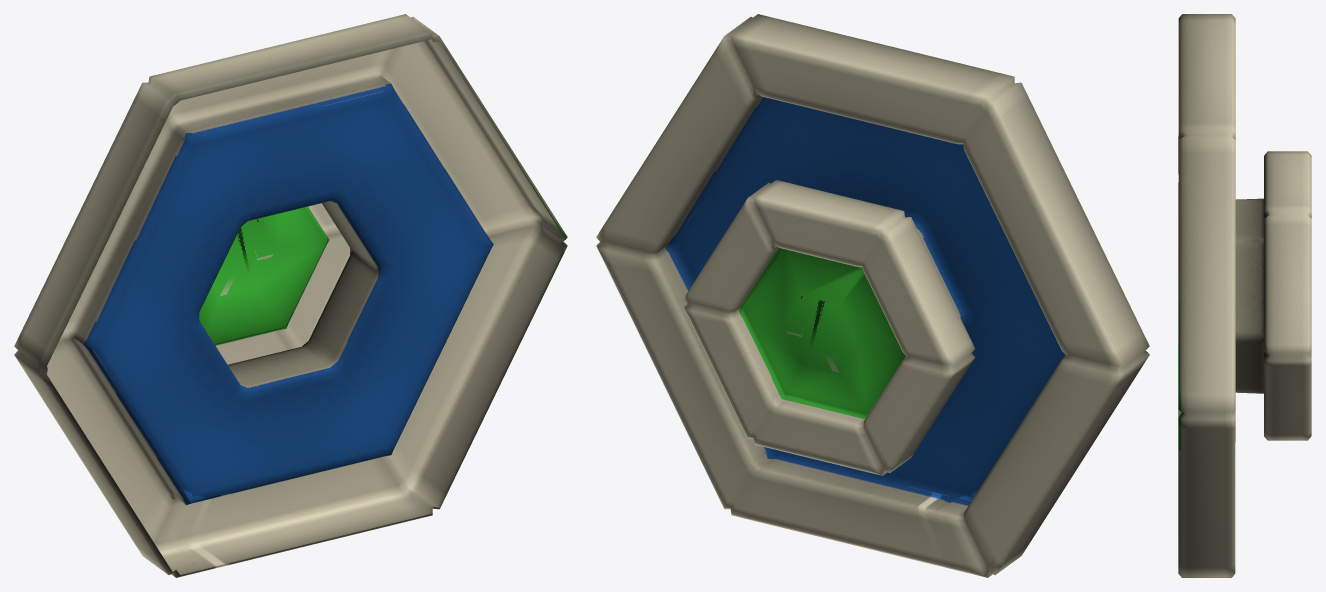
The model's file is fountain.fbx.
3 renders of one model, left to right at view 1: azimuth 30°, elevation 25°; view 2: azimuth 150°, elevation 25°; view 3: azimuth 270°, elevation 25°, orthographic. The views are drawn at different scales.
Parts seen in each view (by area): view 1: Fountain; view 2: Fountain; view 3: Fountain.
Boxes of the visible parts, left/top/right/bottom form: Fountain: left=14, top=14, right=567, bottom=577; Fountain: left=596, top=14, right=1149, bottom=577; Fountain: left=1178, top=14, right=1311, bottom=577.
Size of the model in its own units: 59467 by 51964 by 14016.
